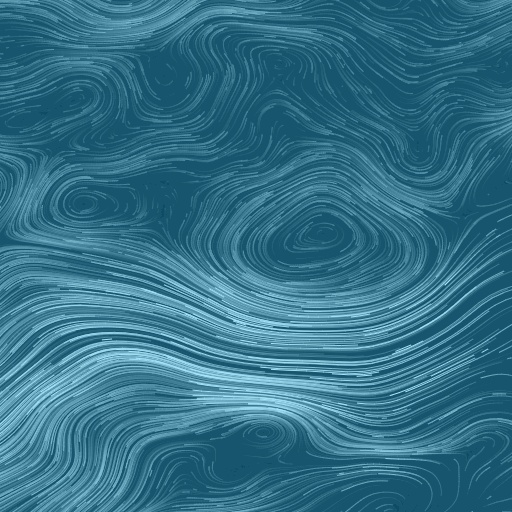eddy: (254, 192, 385, 277), (52, 182, 116, 226), (238, 414, 295, 451), (51, 84, 96, 117)
